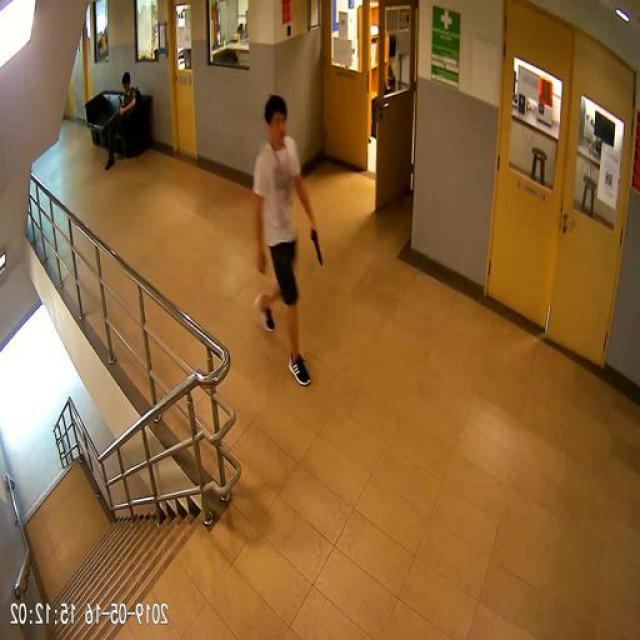Gun: (308, 225, 328, 266)
